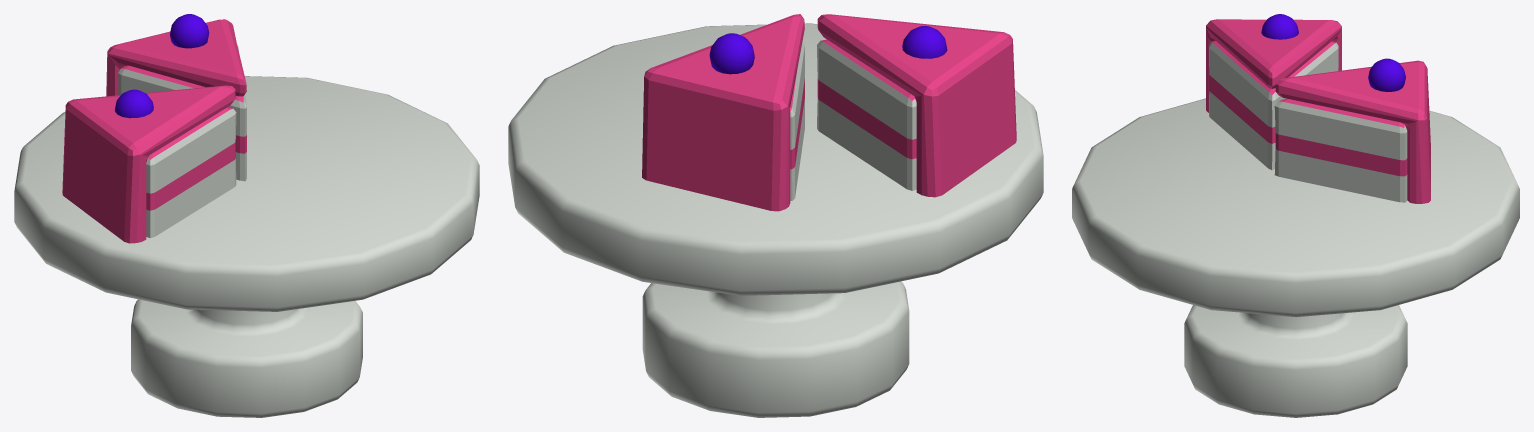
The model's file is Cake.fbx.
The picture shows the model from 3 angles, left to right: view 1: azimuth 30°, elevation 25°; view 2: azimuth 150°, elevation 25°; view 3: azimuth 270°, elevation 25°; orthographic projection. The views are drawn at different scales.
Parts seen in each view (by area): view 1: Cake; view 2: Cake; view 3: Cake.
Part boxes in pixels (x1,y1,x2,y2): Cake: [14, 14, 479, 417]; Cake: [508, 14, 1043, 417]; Cake: [1072, 14, 1519, 417].
Bounding box in the file's own units: 116 × 88.49 × 116.
